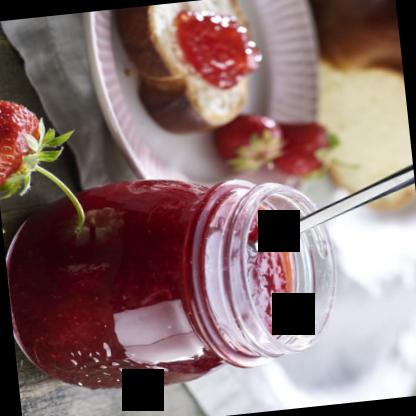strawberry: (0, 87, 50, 193)
